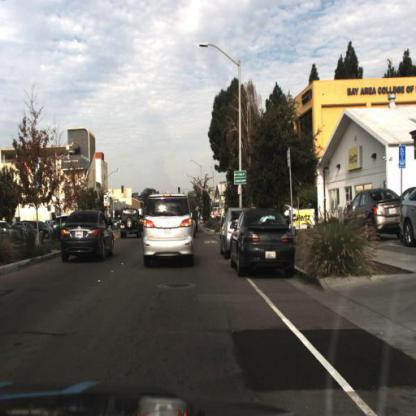car: (134, 183, 204, 281), (230, 211, 297, 279), (144, 193, 201, 266), (59, 209, 120, 265), (346, 188, 401, 232), (272, 198, 308, 235), (220, 205, 241, 264), (120, 210, 144, 244)
